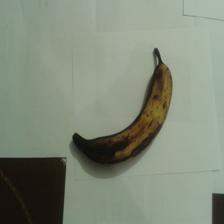Banana Rotten: (132, 38, 176, 166), (58, 126, 177, 170)
